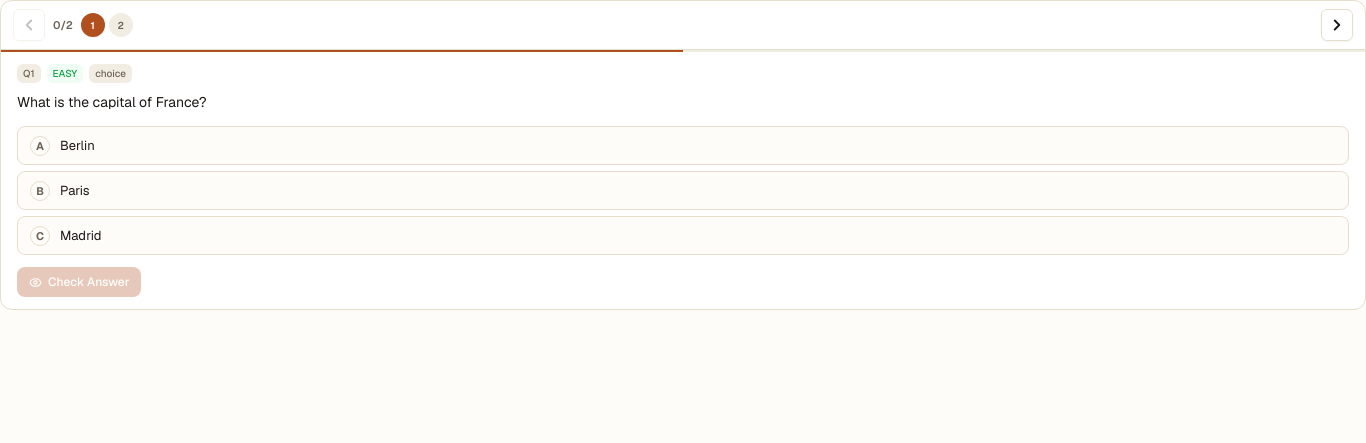
QuizViewer smoke › tracks progress and colors completed chips while navigating
What coordinates should you click on to do the following:
click the button "B Paris"
I would click on:
 (40, 191)
Its box is [17,171,1349,210].
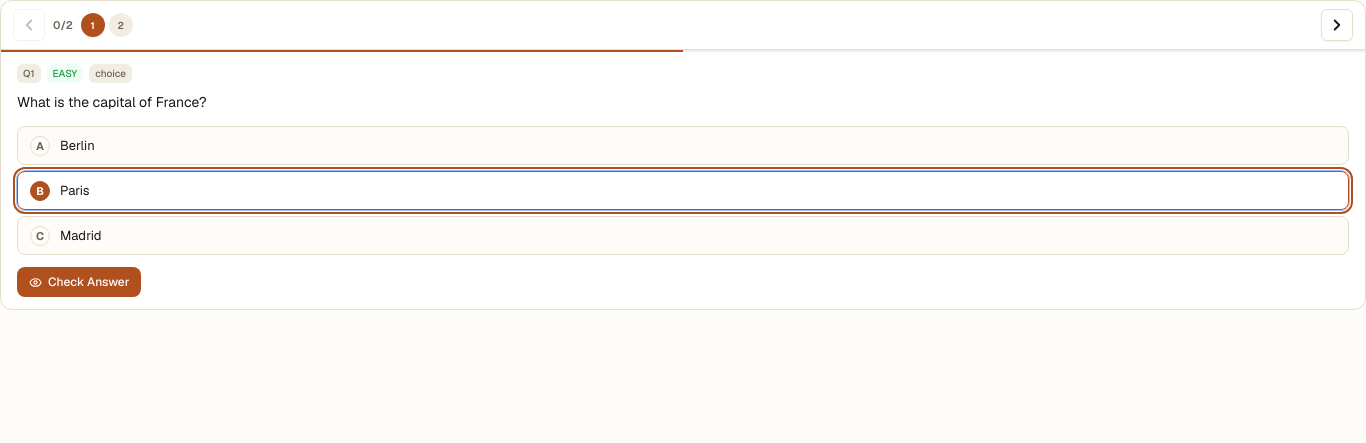
What coordinates should you click on to do the following:
click the button "Check Answer"
I would click on:
 (79, 282)
Its box is [17,267,141,297].
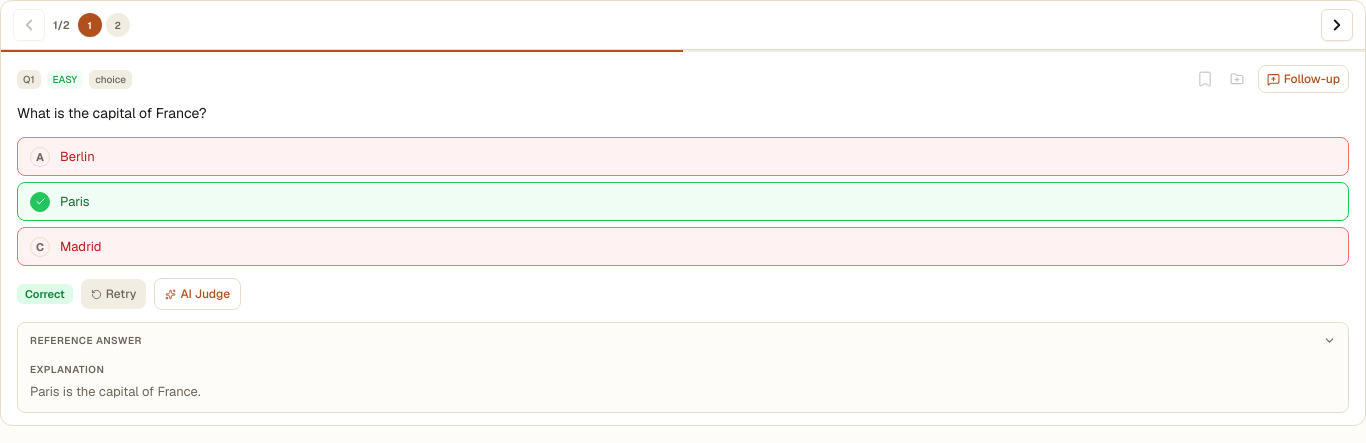
Expected: the text "1/2" is shown, [53,17,70,33]
What coordinates should you click on to do the following:
click the button named "Next"
I would click on:
 (1337, 25)
Its box is [1321,9,1353,41].
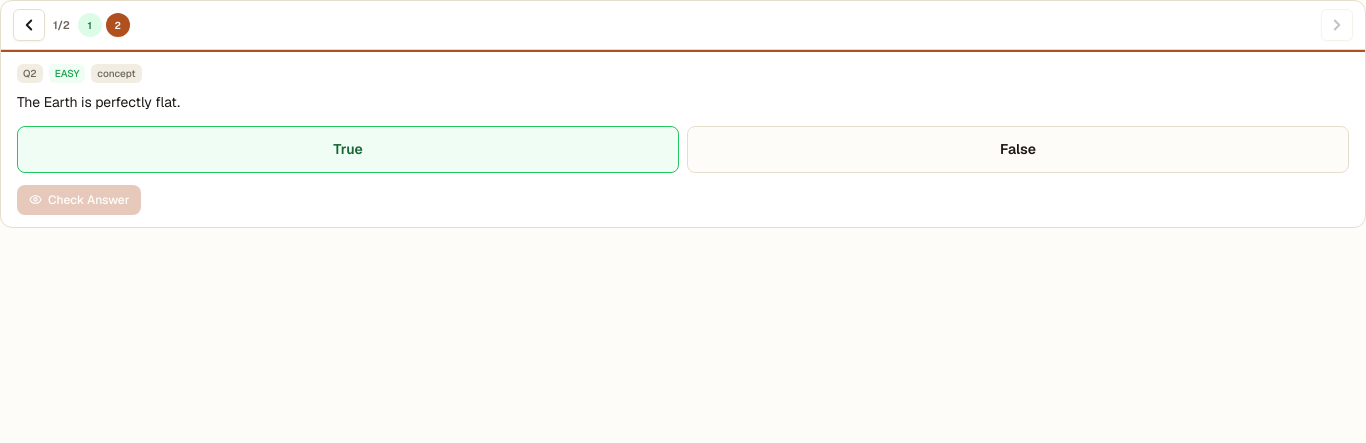
Expected: the text "The Earth is perfectly flat." is shown, [17,93,180,111]
Expected: the button named "Previous" is enabled, [13,9,45,41]
// Chips are also a navigation surface.
What coordinates should you click on to do the following:
click the button "1"
I would click on:
 (90, 25)
Its box is [78,13,102,37].
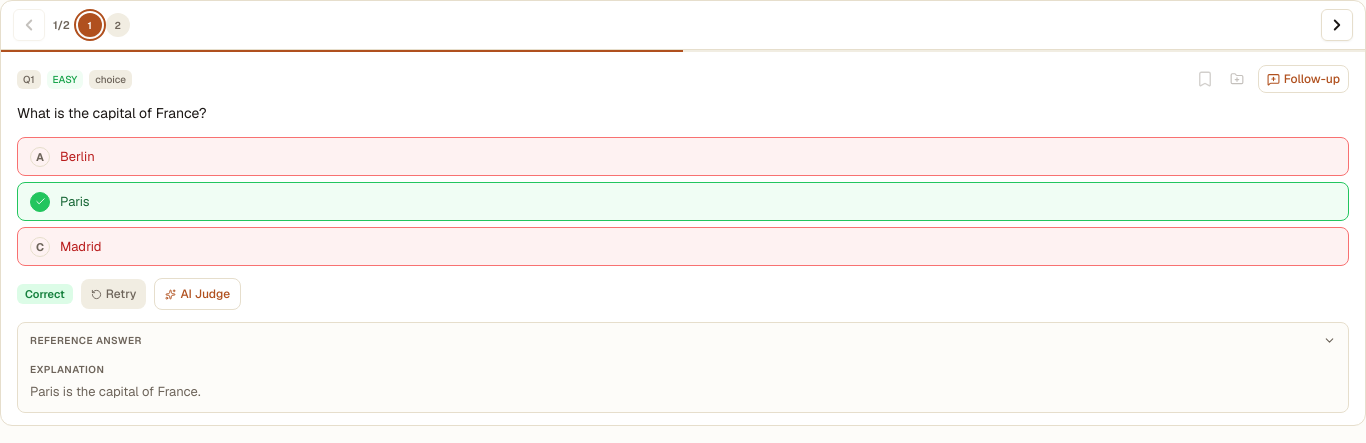
Expected: the text "What is the capital of France?" is shown, [17,104,207,122]
